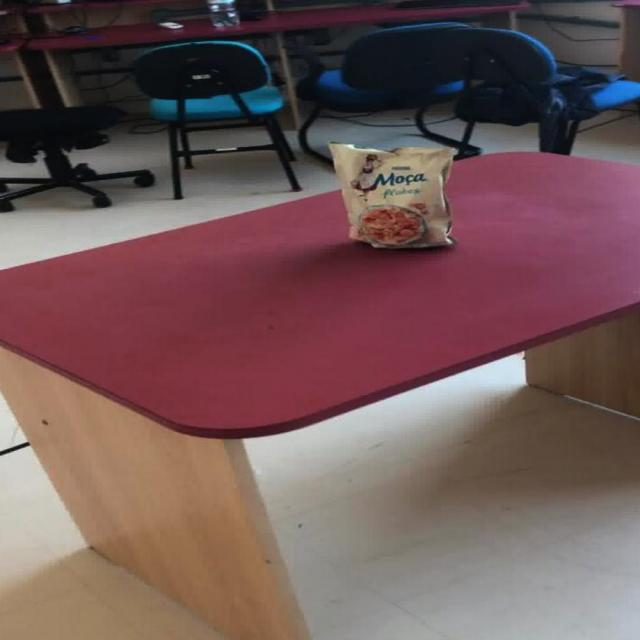CornFlakes: (326, 141, 456, 248), (358, 203, 424, 245)
